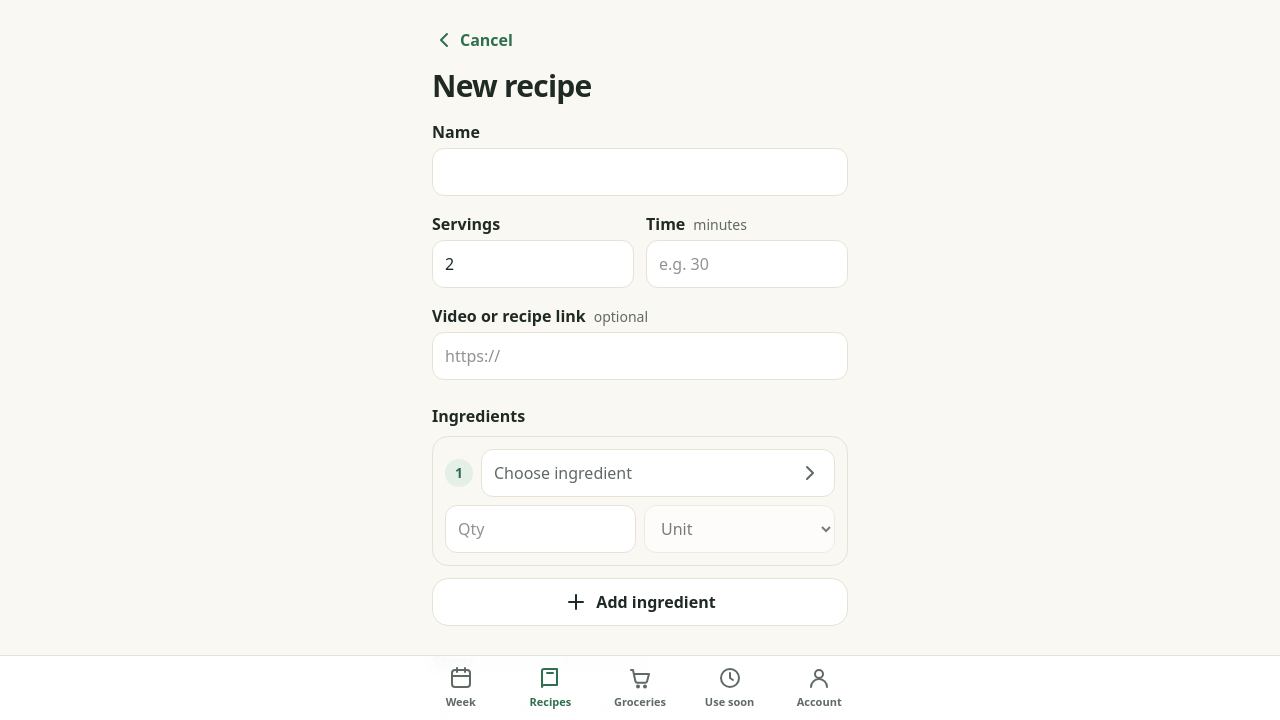
Scenario: recipe form › filters the picker by section
Click the button with aria-label "Ingredient 1: choose ingredient" at {"x": 563, "y": 473}, box [481,449,835,497]
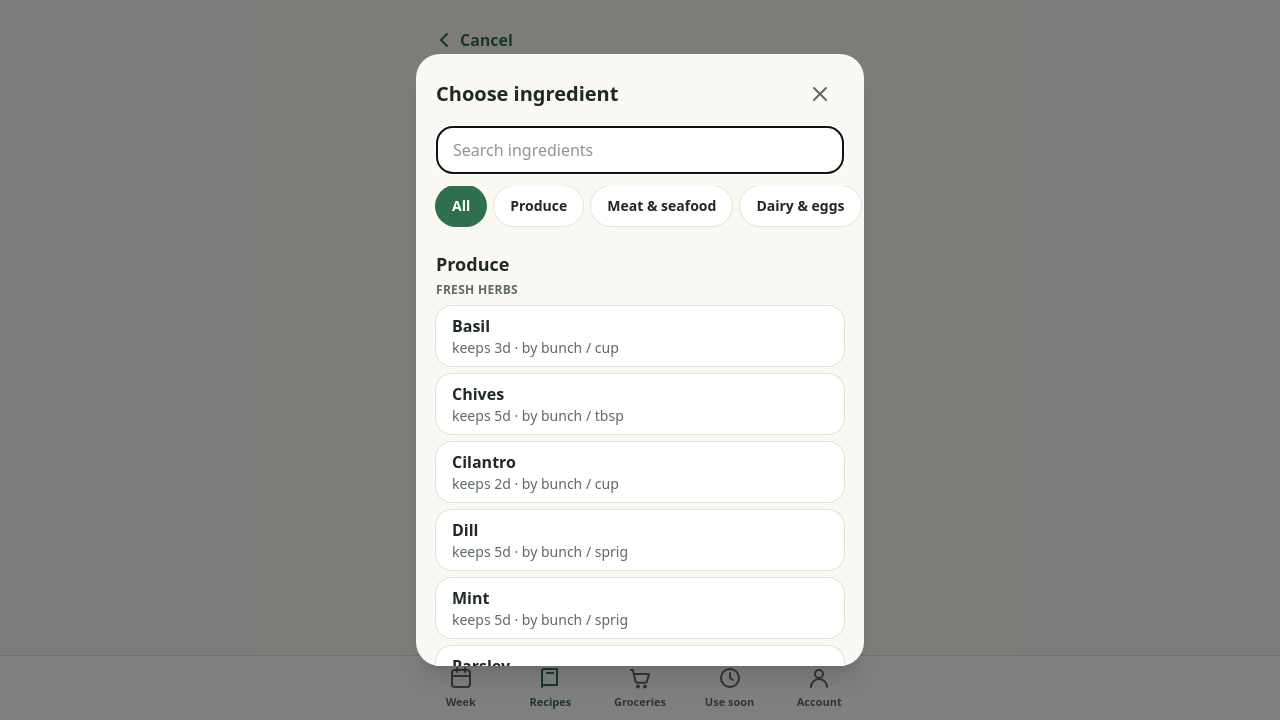
Click the button "Dairy & eggs" at {"x": 800, "y": 206}, box [740,186,861,226]
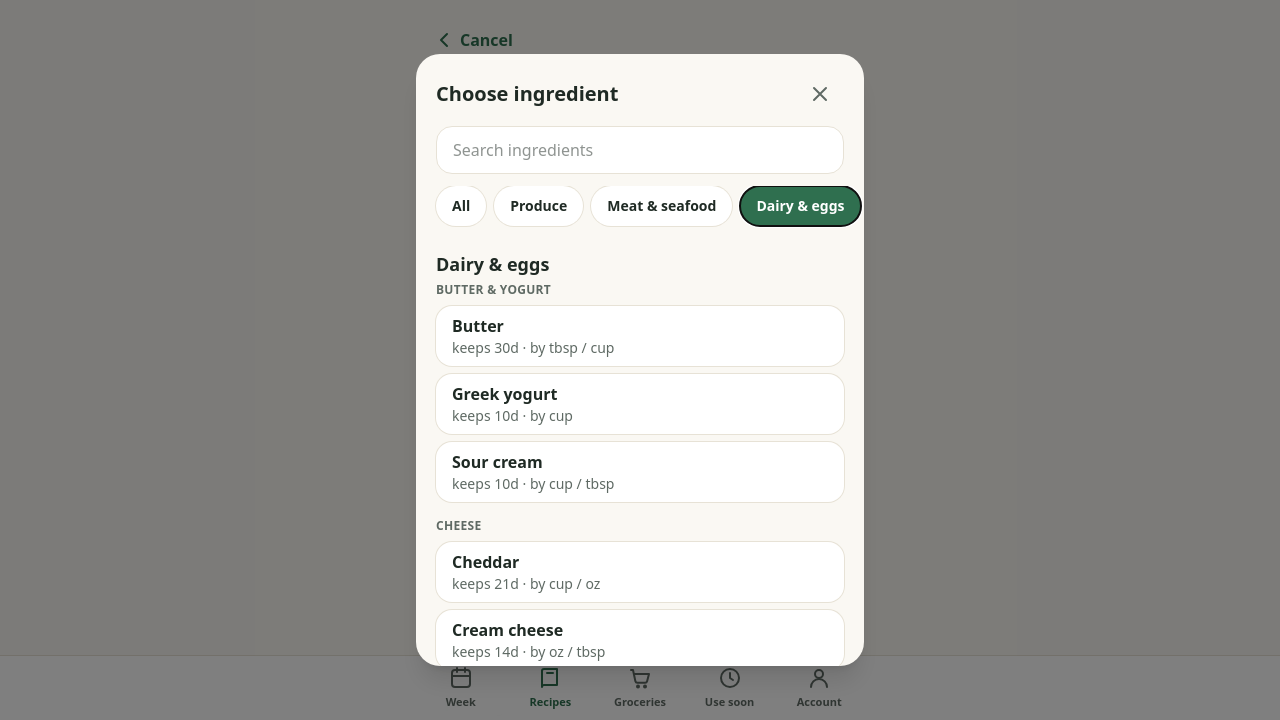
Result: the button "Cheddar keeps 21d · by cup / oz" is shown at [436,542,844,602]
